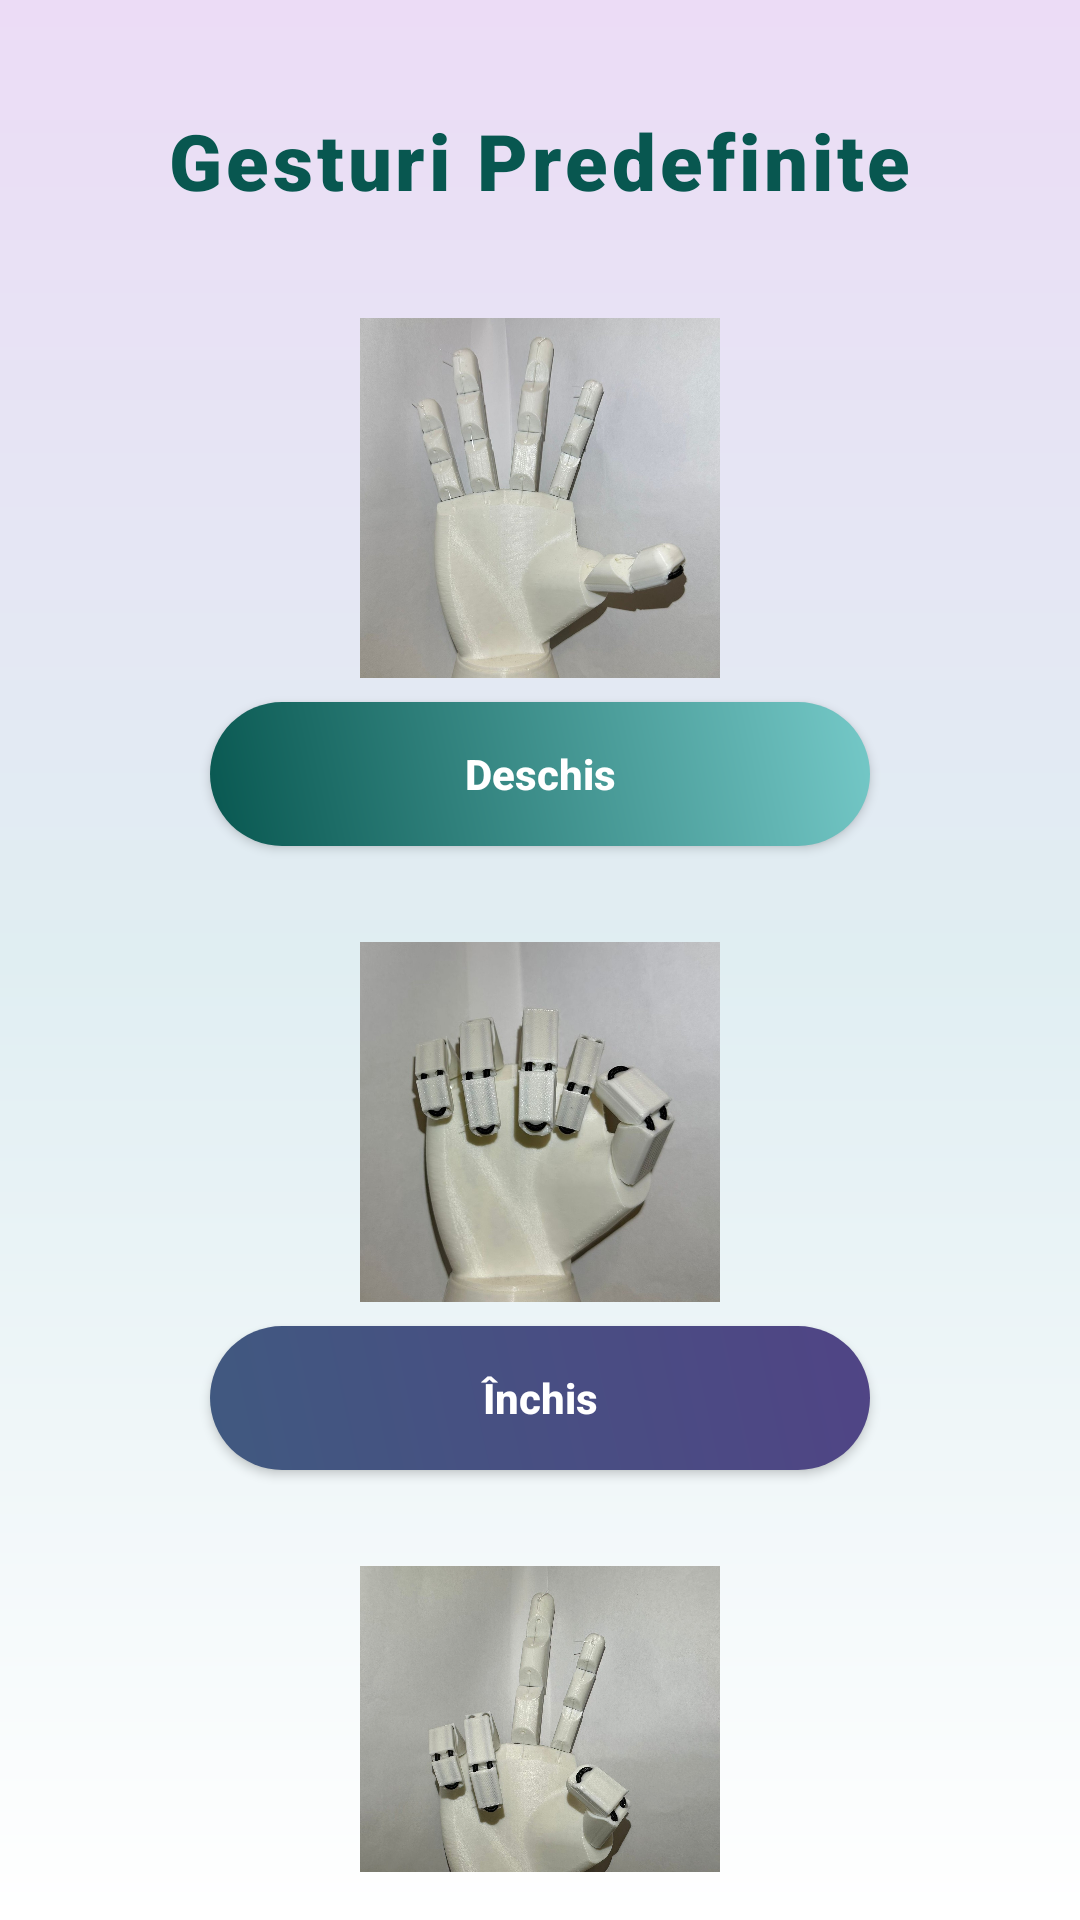

Icon bounding boxes for this 1080*1920 phone screenshot, format Rect(x1, y1, x2, y2):
Gest Sign of Peace: Rect(360, 1566, 720, 1872)
